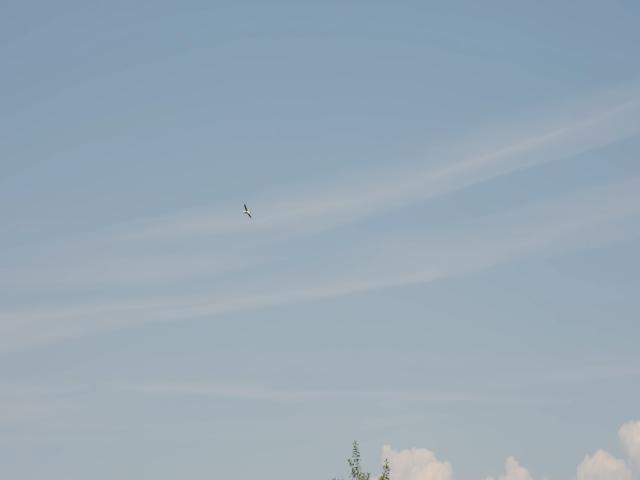plane: (242, 204, 252, 218)
